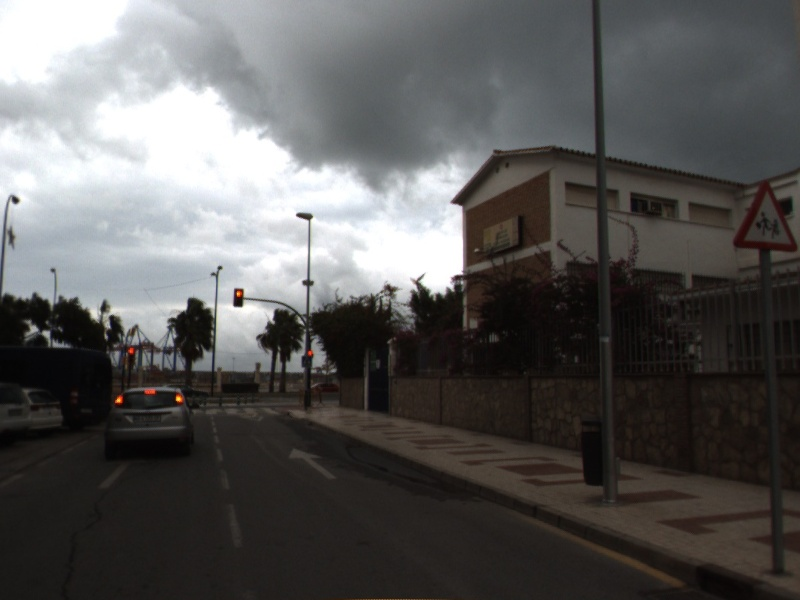STRAIGHT: (285, 444, 340, 480)
